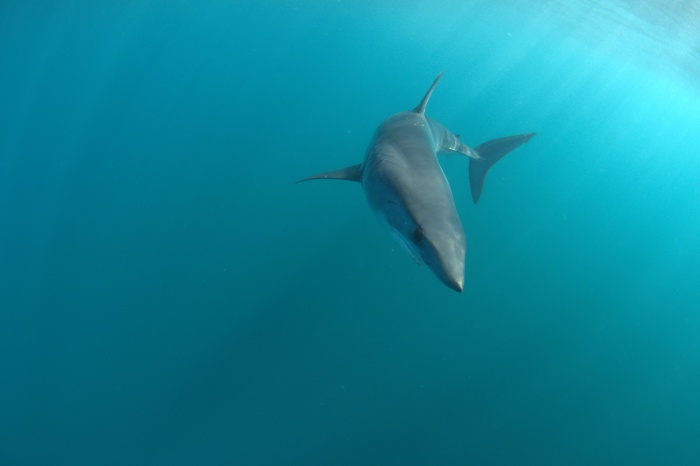Mako: (291, 68, 548, 299)
